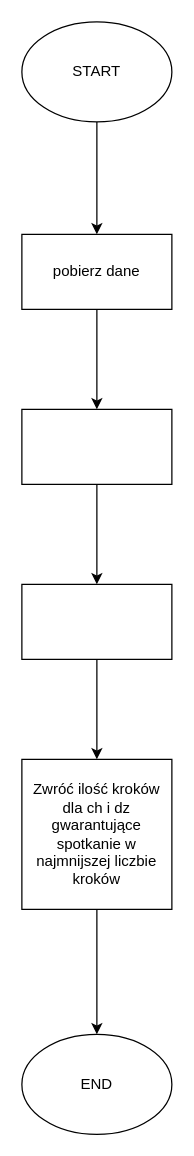
Image size: 194x1156. Some labels were removed from this diagram. Each missing label, with the box of its shape:
wylicz jakie punkty na grafie są dostępne dla ch i dz: (21, 408, 172, 484)
Znajdź część wspólną obydwu zbiorów: (21, 583, 172, 659)
